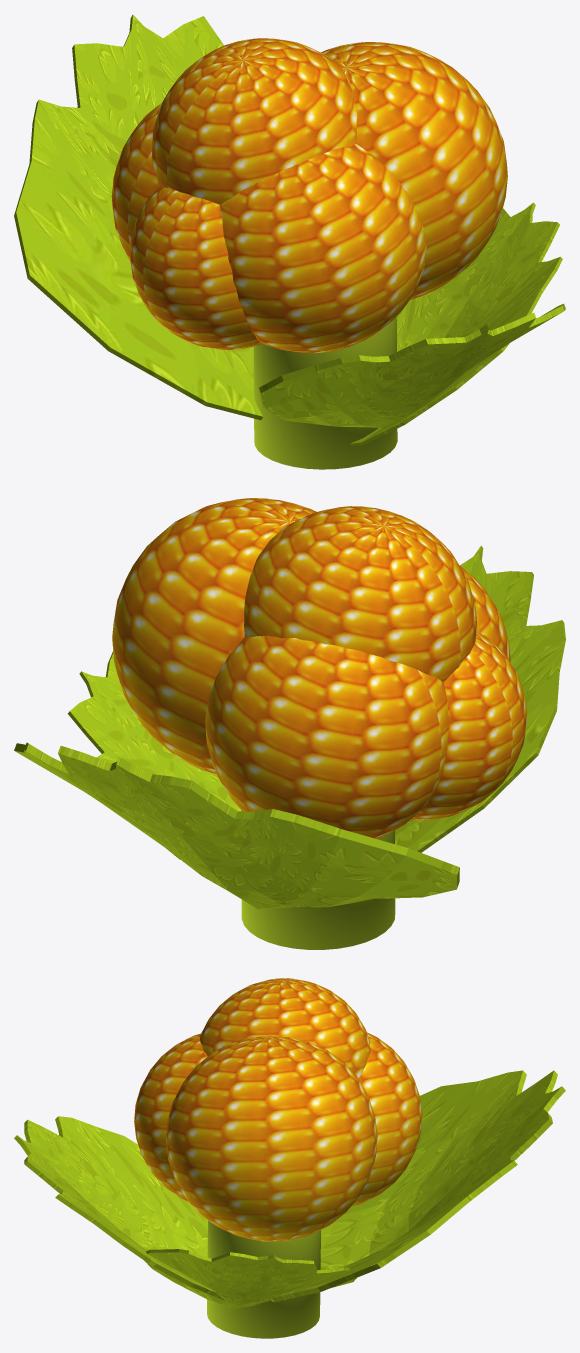
File: sweetcorn2.fbx
The picture shows the model from 3 angles, top to bottom: view 1: azimuth 30°, elevation 25°; view 2: azimuth 150°, elevation 25°; view 3: azimuth 270°, elevation 25°; orthographic projection. The views are drawn at different scales.
Visible parts, largest first — view 1: Plane.008; view 2: Plane.008; view 3: Plane.008.
Boxes of the visible parts, x1,y1,x2,y2 form: Plane.008: [14, 15, 565, 469]; Plane.008: [14, 498, 565, 949]; Plane.008: [14, 978, 565, 1338].
Size of the model in its own units: 40.17 by 35.18 by 56.6.
